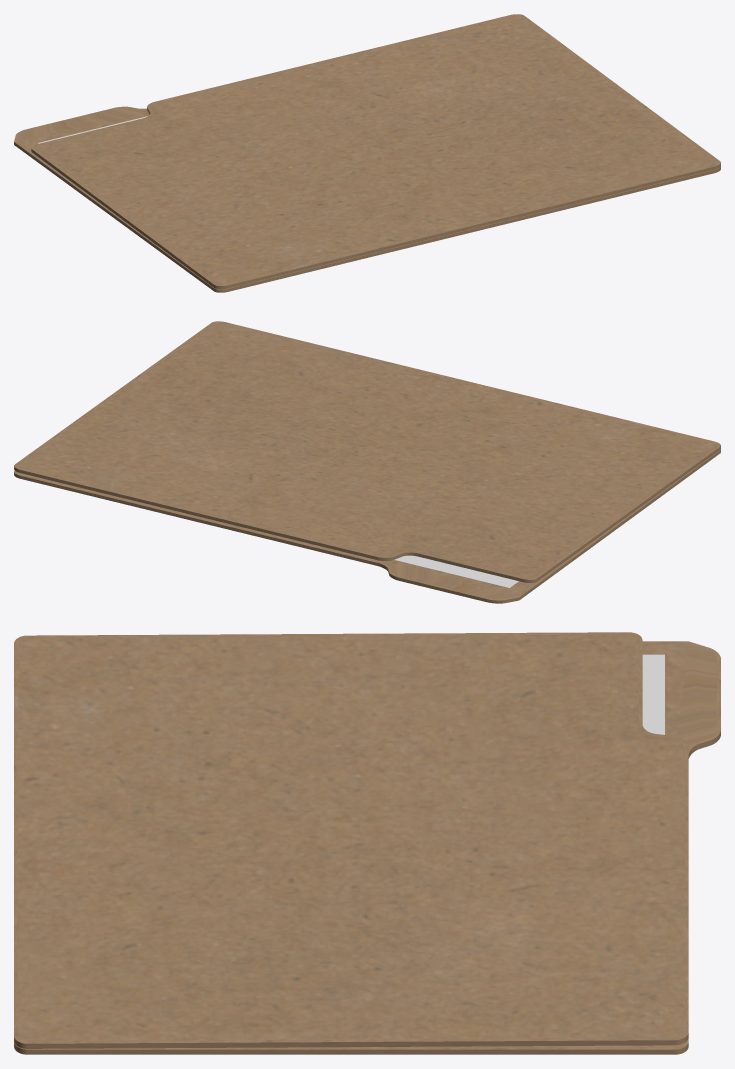
File: paper folder.fbx
3 views of the same model, one above another, from view 1: azimuth 30°, elevation 25°; view 2: azimuth 150°, elevation 25°; view 3: azimuth 270°, elevation 25° (orthographic). The views are drawn at different scales.
Parts seen in each view (by area): view 1: Cube.002, Cube.001; view 2: Cube.002, Cube.001; view 3: Cube.002, Cube.001.
Boxes of the visible parts, x1,y1,x2,y2 form: Cube.002: (31, 14, 720, 289); Cube.001: (14, 106, 720, 292); Cube.002: (14, 321, 720, 582); Cube.001: (14, 449, 720, 603); Cube.002: (14, 632, 688, 1048); Cube.001: (14, 641, 720, 1054).
Bounding box in the file's own units: 286 × 4.86 × 210.
4 materials, 2 textured.
